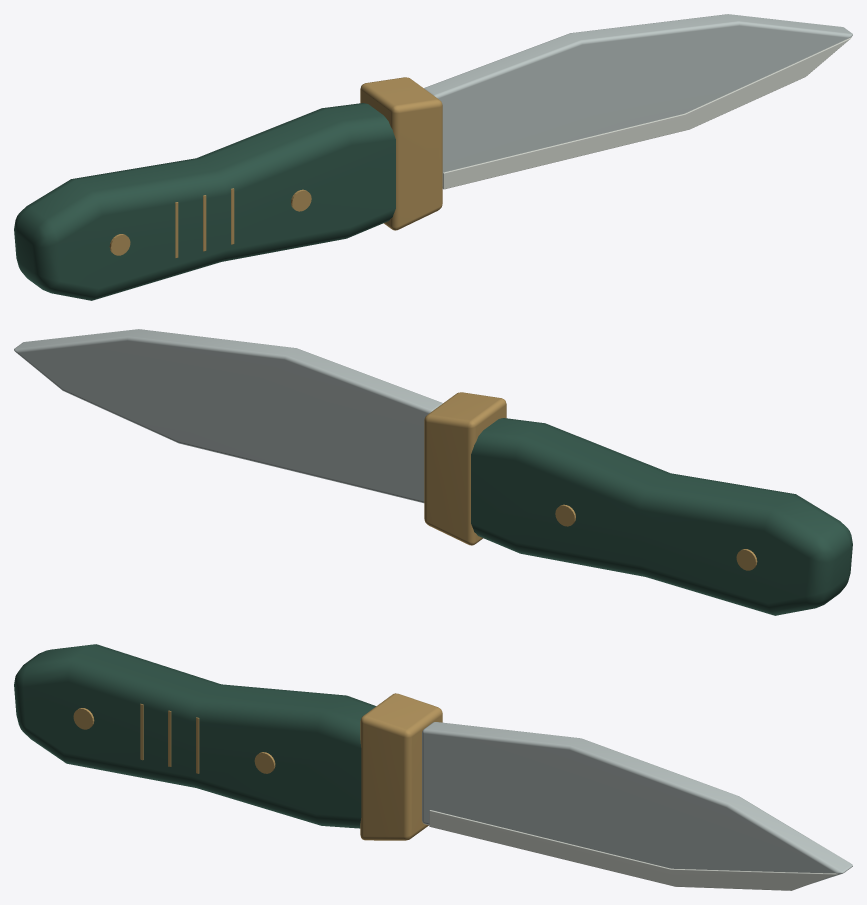
Rendered from paring.glb.
3 views of the same model, one above another, from view 1: azimuth 30°, elevation 25°; view 2: azimuth 150°, elevation 25°; view 3: azimuth 330°, elevation 25° (orthographic).
Parts seen in each view (by area): view 1: Narrow sculpted green grip, Fine pointed paring blade, Brass shoulder ferrule, Visible honed lower facet; view 2: Narrow sculpted green grip, Fine pointed paring blade, Brass shoulder ferrule; view 3: Narrow sculpted green grip, Fine pointed paring blade, Brass shoulder ferrule, Visible honed lower facet.
Boxes of the visible parts, left/top/right/bottom form: Narrow sculpted green grip: left=14, top=103, right=395, bottom=300; Fine pointed paring blade: left=424, top=14, right=852, bottom=186; Brass shoulder ferrule: left=360, top=77, right=442, bottom=230; Visible honed lower facet: left=442, top=37, right=851, bottom=189; Narrow sculpted green grip: left=471, top=418, right=852, bottom=615; Fine pointed paring blade: left=14, top=329, right=442, bottom=503; Brass shoulder ferrule: left=424, top=392, right=506, bottom=545; Narrow sculpted green grip: left=14, top=644, right=376, bottom=828; Fine pointed paring blade: left=422, top=722, right=852, bottom=883; Brass shoulder ferrule: left=360, top=693, right=442, bottom=840; Visible honed lower facet: left=429, top=810, right=837, bottom=890.
Bounding box in the file's own units: 1.77 × 0.28 × 0.14.
